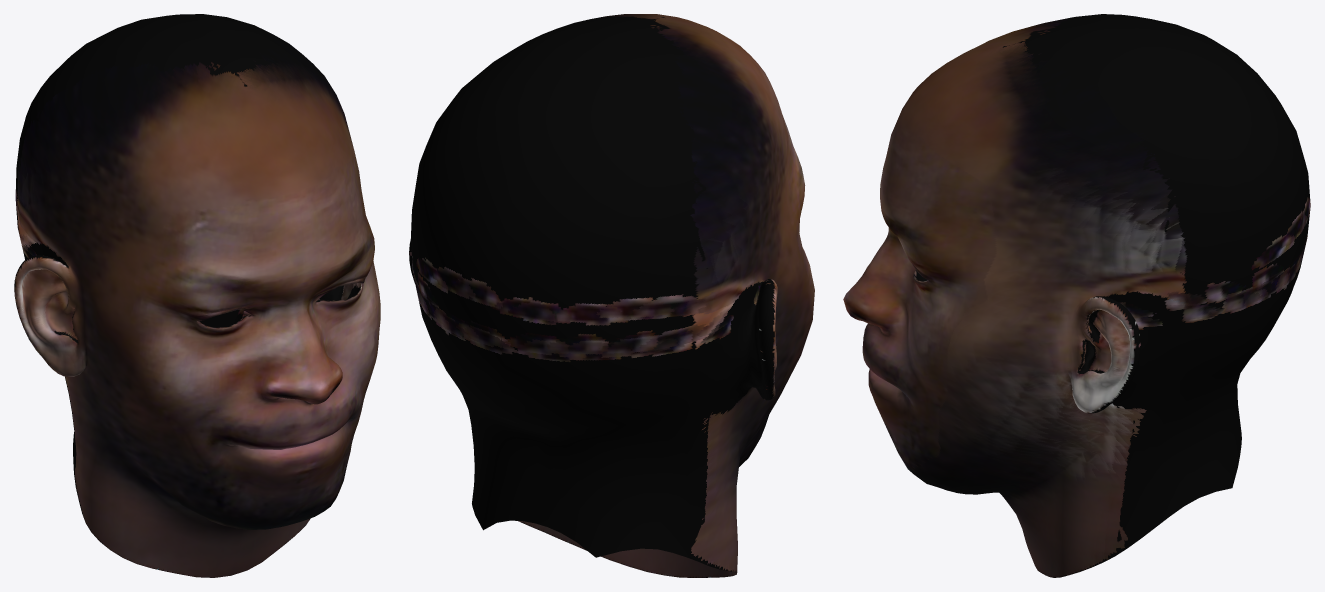
3 renders of one model, left to right at view 1: azimuth 30°, elevation 25°; view 2: azimuth 150°, elevation 25°; view 3: azimuth 270°, elevation 25°, orthographic. The views are drawn at different scales.
Size of the model in its own units: 191 by 280 by 224.
